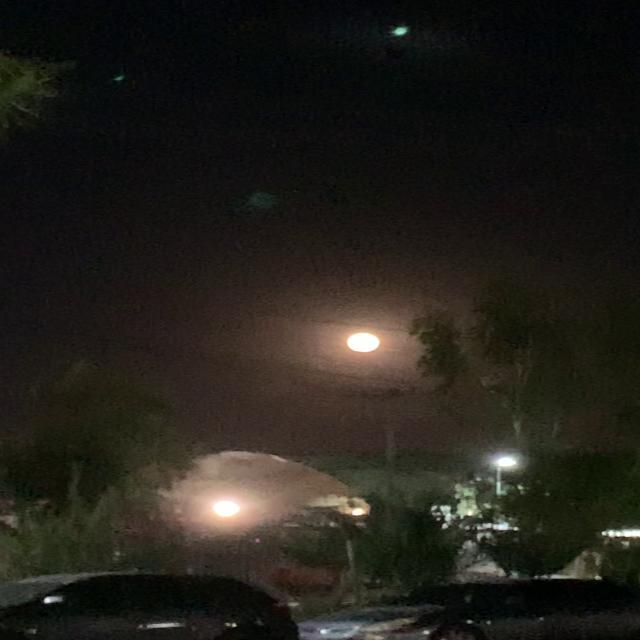moon: (342, 334, 384, 358)
